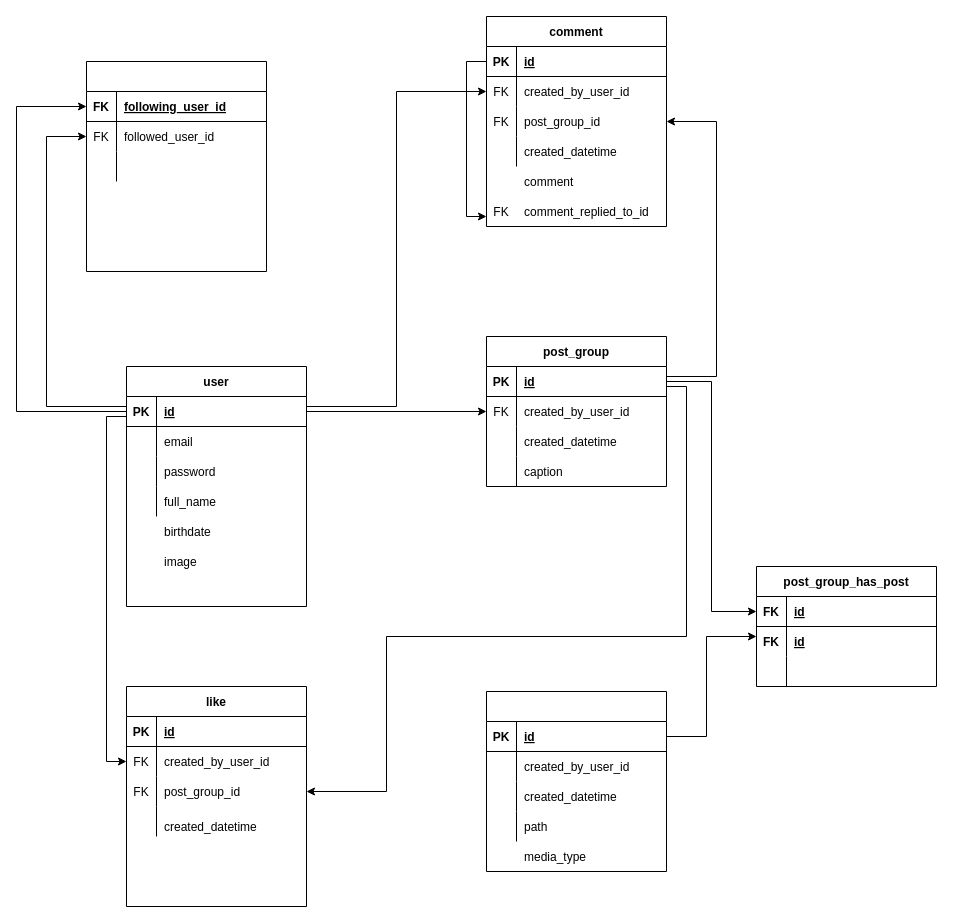
The diagram is 953 pixels wide and 923 high, and some of its shapes have lost their labels. Each missing label, with the box of its shape:
follower: (86, 60, 266, 272)
post: (486, 690, 666, 872)
